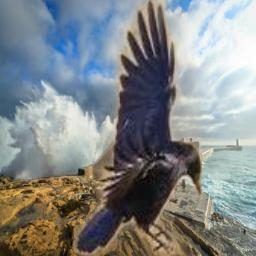Crow: (74, 0, 202, 256)
